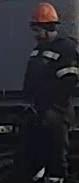helmet: (28, 1, 61, 32)
vest: (22, 37, 78, 126)
